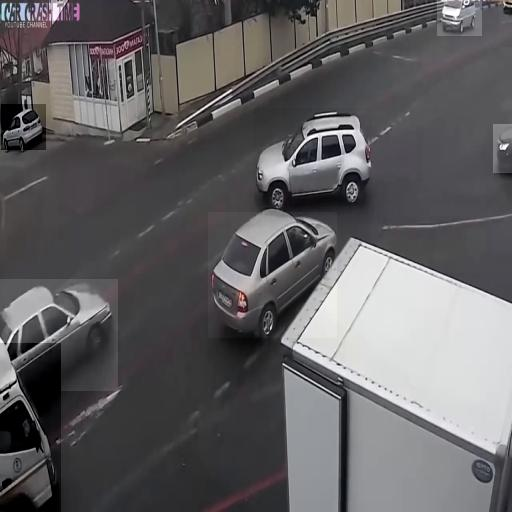小汽车: (208, 212, 337, 338), (0, 279, 118, 391), (254, 108, 372, 206), (0, 343, 61, 512), (1, 104, 46, 150), (437, 0, 482, 36), (493, 124, 512, 173)
